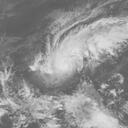cyclone: (45, 21, 109, 76)
